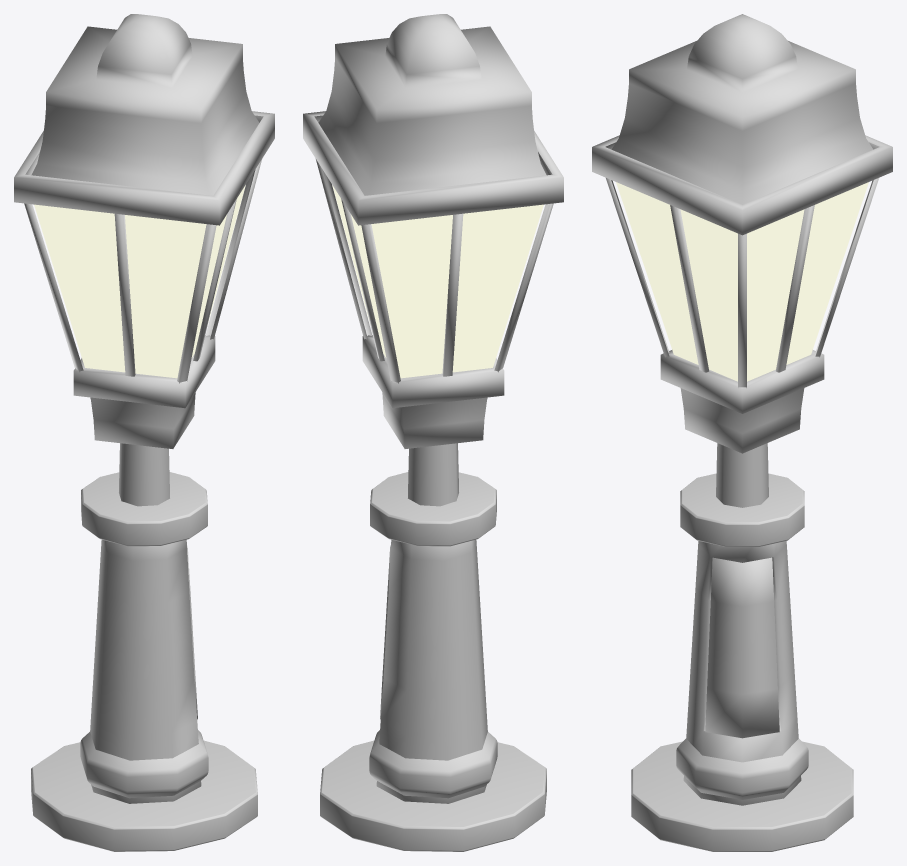
The model's file is lampPost2.fbx.
3 renders of one model, left to right at view 1: azimuth 30°, elevation 25°; view 2: azimuth 150°, elevation 25°; view 3: azimuth 270°, elevation 25°, orthographic.
Parts seen in each view (by area): view 1: Post.001; view 2: Post.001; view 3: Post.001.
Part boxes in pixels (x1=…): Post.001: x1=14, y1=14, x2=274, y2=851; Post.001: x1=303, y1=14, x2=563, y2=851; Post.001: x1=592, y1=14, x2=892, y2=851.
Size of the model in its own units: 82.07 by 237 by 82.07.
